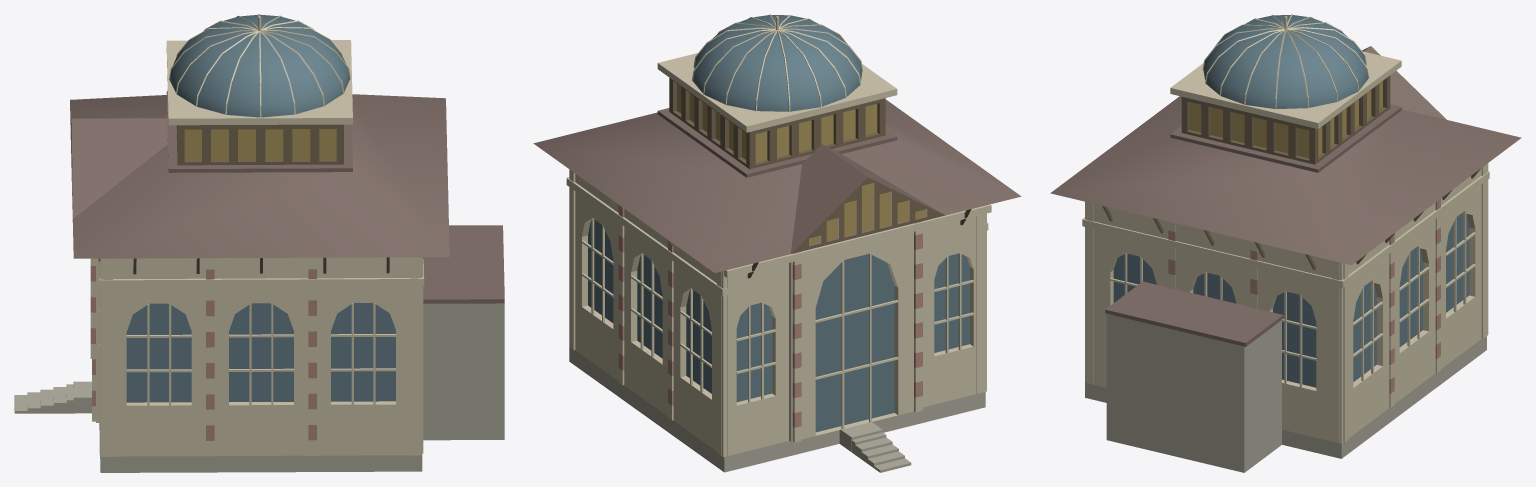
The model's file is bibliotheque-schoelcher-far.glb.
3 views of the same model, side by side, from view 1: azimuth 30°, elevation 25°; view 2: azimuth 150°, elevation 25°; view 3: azimuth 270°, elevation 25° (orthographic). The views are drawn at different scales.
Visible parts, largest first — view 1: bibliotheque-schoelcher-0-trim, bibliotheque-schoelcher-0-roof, bibliotheque-schoelcher-0-glass, bibliotheque-schoelcher-0-plaster, bibliotheque-schoelcher-0-wood, bibliotheque-schoelcher-0-gold, bibliotheque-schoelcher-0-pink; view 2: bibliotheque-schoelcher-0-trim, bibliotheque-schoelcher-0-roof, bibliotheque-schoelcher-0-glass, bibliotheque-schoelcher-0-plaster, bibliotheque-schoelcher-0-wood, bibliotheque-schoelcher-0-gold, bibliotheque-schoelcher-0-pink; view 3: bibliotheque-schoelcher-0-trim, bibliotheque-schoelcher-0-roof, bibliotheque-schoelcher-0-plaster, bibliotheque-schoelcher-0-glass, bibliotheque-schoelcher-0-wood, bibliotheque-schoelcher-0-gold, bibliotheque-schoelcher-0-pink, bibliotheque-schoelcher-0-brace.
Boxes of the visible parts, x1,y1,x2,y2 form: bibliotheque-schoelcher-0-trim: (90, 14, 424, 457); bibliotheque-schoelcher-0-roof: (70, 91, 504, 303); bibliotheque-schoelcher-0-glass: (126, 14, 395, 402); bibliotheque-schoelcher-0-plaster: (14, 303, 504, 472); bibliotheque-schoelcher-0-wood: (70, 123, 343, 208); bibliotheque-schoelcher-0-gold: (184, 129, 336, 160); bibliotheque-schoelcher-0-pink: (90, 265, 316, 440); bibliotheque-schoelcher-0-trim: (566, 14, 991, 457); bibliotheque-schoelcher-0-roof: (533, 99, 1021, 272); bibliotheque-schoelcher-0-glass: (588, 15, 969, 432); bibliotheque-schoelcher-0-plaster: (569, 346, 985, 472); bibliotheque-schoelcher-0-wood: (669, 78, 945, 253); bibliotheque-schoelcher-0-gold: (677, 84, 926, 245); bibliotheque-schoelcher-0-pink: (618, 205, 922, 427); bibliotheque-schoelcher-0-trim: (1082, 14, 1489, 443); bibliotheque-schoelcher-0-roof: (1050, 46, 1521, 346); bibliotheque-schoelcher-0-plaster: (1085, 313, 1486, 472); bibliotheque-schoelcher-0-glass: (1113, 15, 1469, 387); bibliotheque-schoelcher-0-wood: (1181, 75, 1390, 164); bibliotheque-schoelcher-0-gold: (1189, 81, 1382, 158); bibliotheque-schoelcher-0-pink: (1168, 198, 1440, 393); bibliotheque-schoelcher-0-brace: (1102, 168, 1480, 269).
Bounding box in the file's own units: 28.33 × 23.65 × 28.33.
